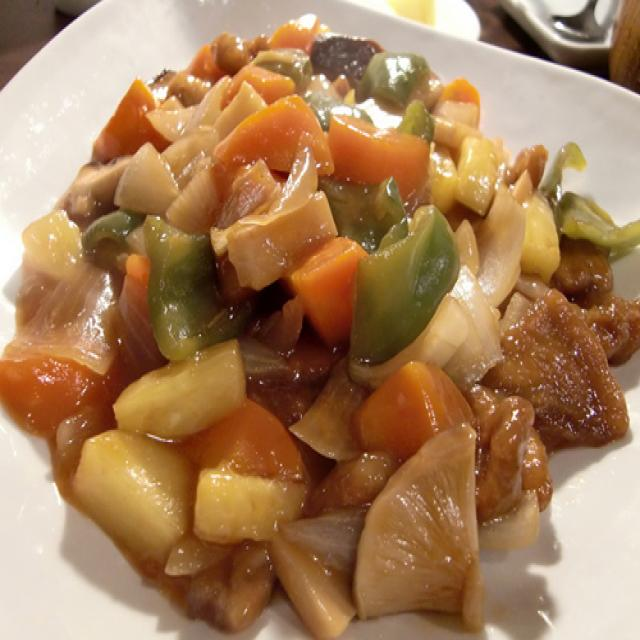猪肉菜式: (0, 12, 640, 640)
